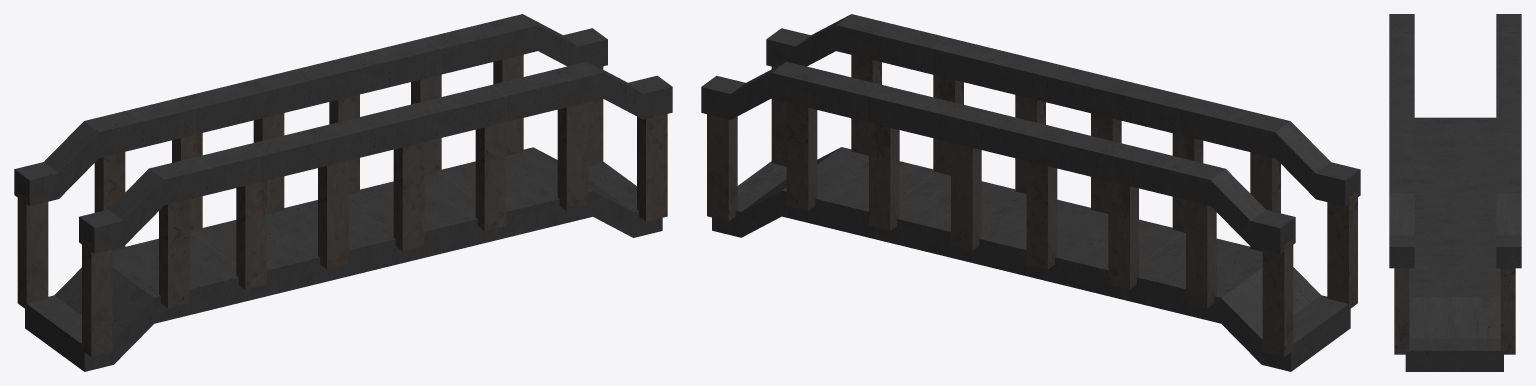
Rendered from stage1_longbridge.FBX.
3 renders of one model, left to right at view 1: azimuth 30°, elevation 25°; view 2: azimuth 150°, elevation 25°; view 3: azimuth 270°, elevation 25°, orthographic. The views are drawn at different scales.
Visible parts, largest first — view 1: Box001, Box019, Box018, Box010, Box014, Box016, Box002, Box013, Box012, Box015, Box011, Box017 (+7 smaller); view 2: Box001, Box018, Box019, Box002, Box008, Box005, Box010, Box004, Box006, Box007, Box009, Box003 (+7 smaller); view 3: Box001, Box018, Box019, Box009, Box017.
Boxes of the visible parts, x1,y1,x2,y2 form: Box001: [25, 147, 662, 371]; Box019: [79, 61, 672, 253]; Box018: [14, 14, 607, 206]; Box010: [82, 239, 112, 356]; Box014: [393, 142, 424, 251]; Box016: [557, 102, 588, 211]; Box002: [17, 192, 48, 309]; Box013: [318, 160, 348, 269]; Box012: [236, 180, 266, 289]; Box015: [475, 122, 505, 231]; Box011: [159, 199, 189, 308]; Box017: [637, 114, 667, 221]; Box001: [712, 147, 1350, 371]; Box018: [701, 61, 1295, 253]; Box019: [766, 14, 1360, 206]; Box002: [1262, 239, 1293, 356]; Box008: [786, 102, 817, 210]; Box005: [1026, 161, 1057, 269]; Box010: [1327, 192, 1357, 309]; Box004: [1108, 181, 1138, 289]; Box006: [951, 142, 981, 250]; Box007: [869, 122, 899, 230]; Box009: [707, 114, 737, 221]; Box003: [1186, 200, 1216, 308]; Box001: [1405, 117, 1503, 371]; Box018: [1496, 14, 1521, 268]; Box019: [1389, 14, 1414, 268]; Box009: [1500, 268, 1515, 354]; Box017: [1394, 268, 1409, 354].
Size of the model in its own units: 117 by 28.15 by 35.32.
2 materials, 2 textured.
